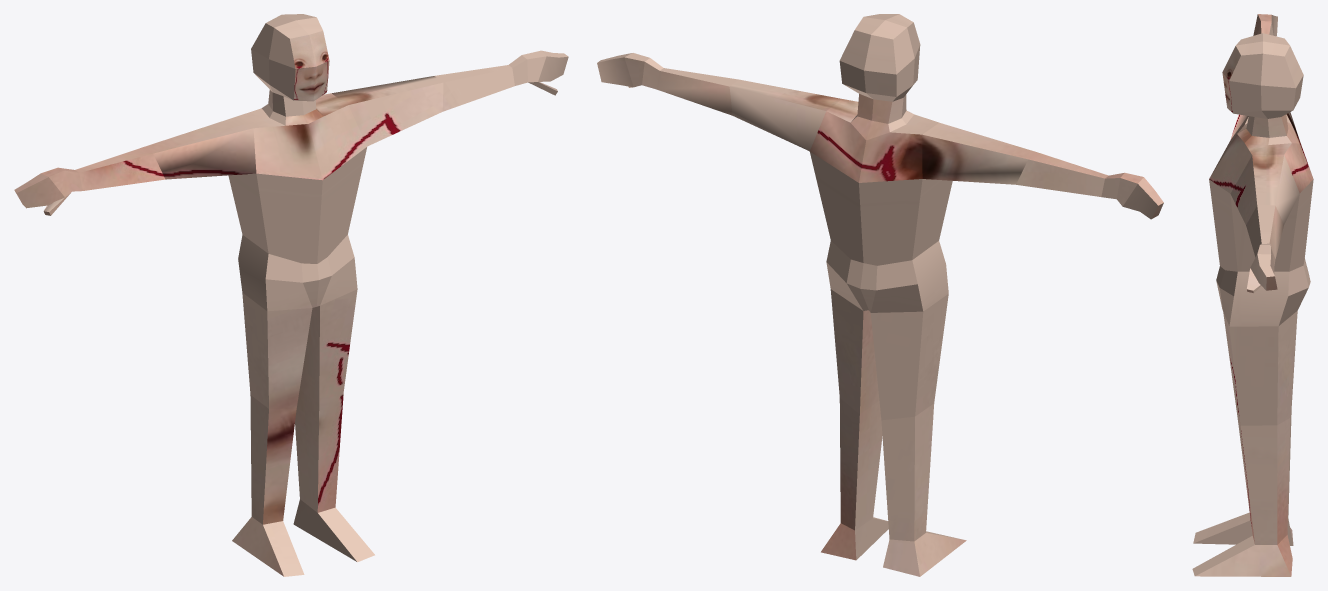
Rendered from ScaryPerson.obj.
The picture shows the model from 3 angles, left to right: view 1: azimuth 30°, elevation 25°; view 2: azimuth 150°, elevation 25°; view 3: azimuth 270°, elevation 25°; orthographic projection. The views are drawn at different scales.
Parts seen in each view (by area): view 1: Cube; view 2: Cube; view 3: Cube.
Boxes of the visible parts, x1=… form: Cube: x1=14, y1=14, x2=568, y2=576; Cube: x1=597, y1=14, x2=1163, y2=576; Cube: x1=1192, y1=14, x2=1313, y2=576.
Size of the model in its own units: 7.31 by 6.62 by 1.41.
1 material, 1 textured.
